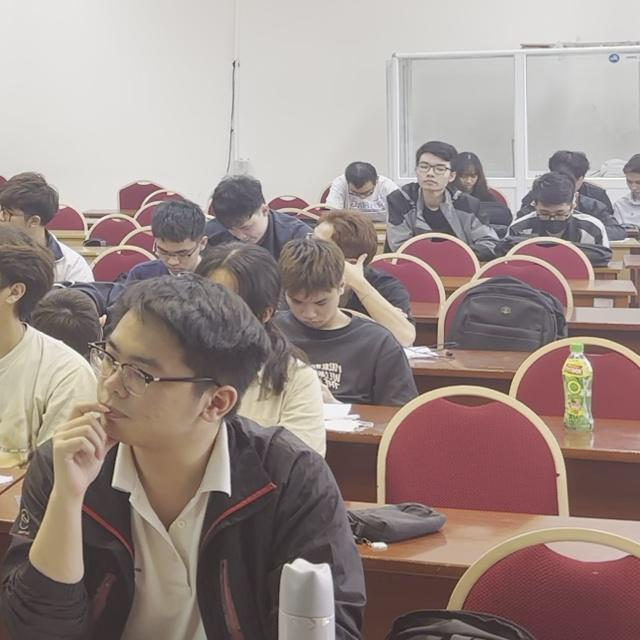Looking away: (281, 280, 339, 328), (156, 235, 201, 276), (226, 207, 270, 244), (416, 148, 451, 193), (536, 194, 571, 223), (347, 176, 377, 201), (459, 166, 477, 188)
Looking forward: (97, 305, 193, 443)
